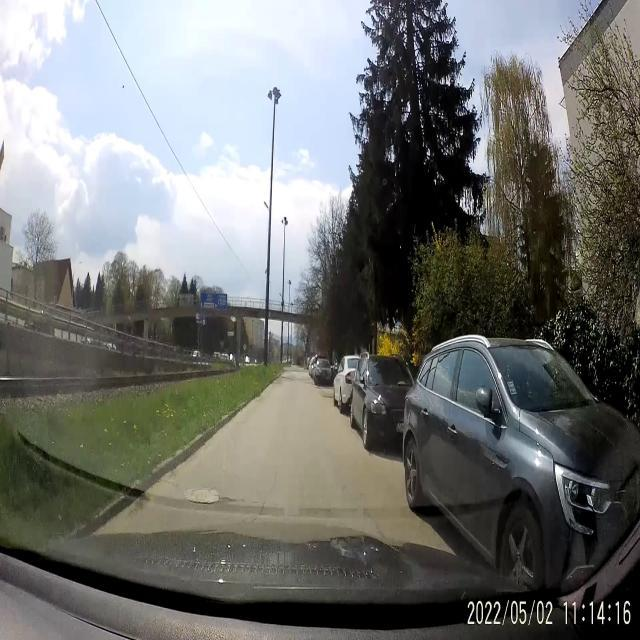Manhole: (182, 481, 224, 508)
